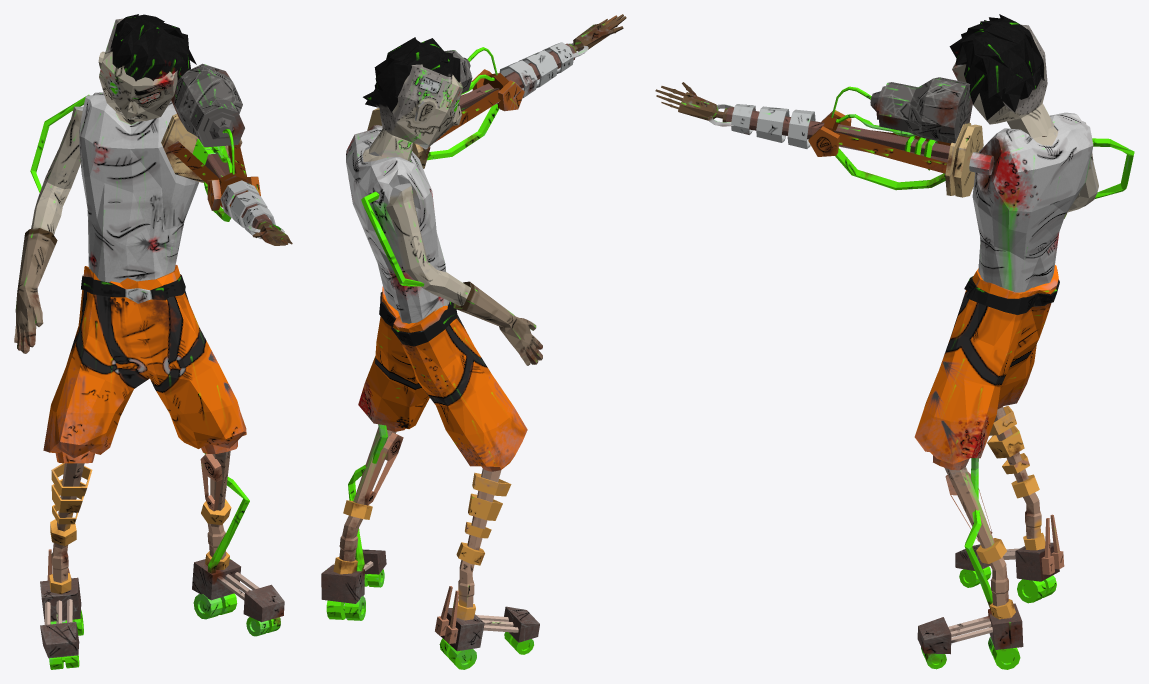
The model's file is CyborgFINALAnimation_000115.obj.
The picture shows the model from 3 angles, left to right: view 1: azimuth 30°, elevation 25°; view 2: azimuth 150°, elevation 25°; view 3: azimuth 270°, elevation 25°; orthographic projection. The views are drawn at different scales.
Parts seen in each view (by area): view 1: CyborgMesh_Cube.002; view 2: CyborgMesh_Cube.002; view 3: CyborgMesh_Cube.002.
Part boxes in pixels (box(x1,y1,x2,y2)): CyborgMesh_Cube.002: box(14, 14, 292, 669); CyborgMesh_Cube.002: box(321, 14, 626, 669); CyborgMesh_Cube.002: box(655, 14, 1134, 669).
Size of the model in its own units: 3.62 by 9.37 by 6.7.
